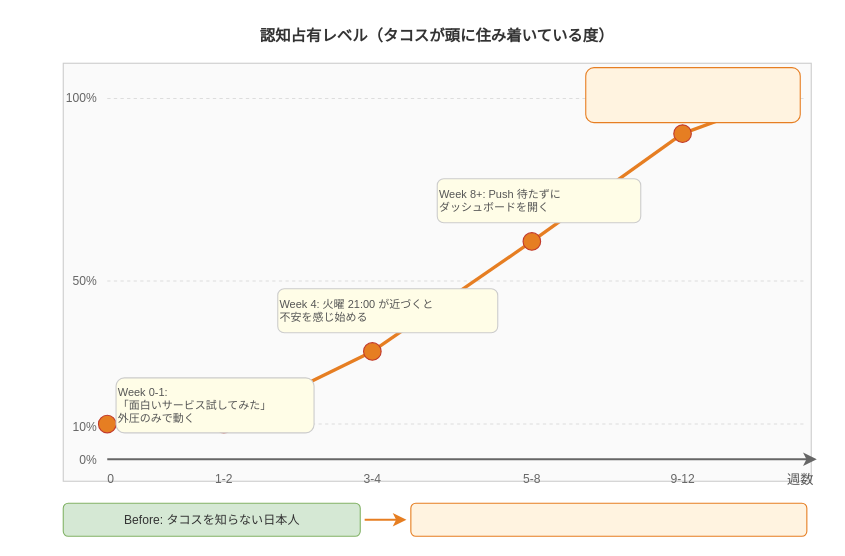
Some shapes in this 845 by 556 pixel diagram are drawn without their labels. The box of each missing label's shape, as (x1, y1, x2, y2) in pixels:
After: 毎週火曜にタコスを作らずにいられない: (410, 502, 807, 536)
Week 12: 「最高じゃないですか」 自発的 Taco Tuesday: (585, 67, 800, 123)
